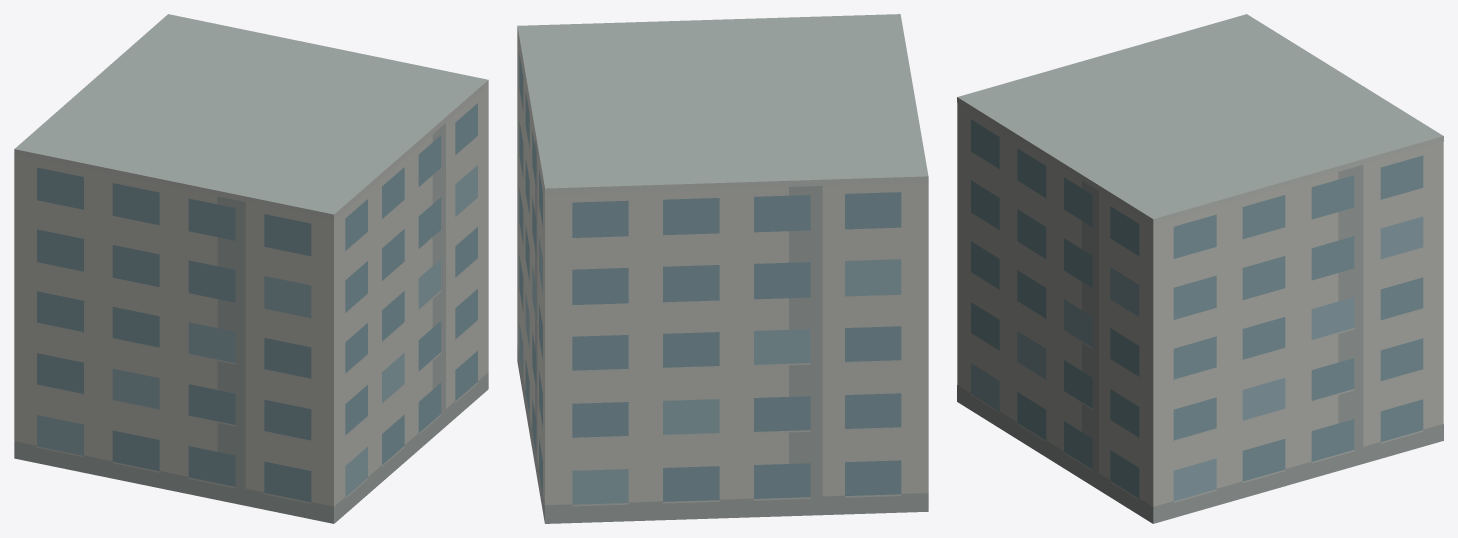
The model's file is survey-upis-32853489.glb.
3 renders of one model, left to right at view 1: azimuth 30°, elevation 25°; view 2: azimuth 150°, elevation 25°; view 3: azimuth 270°, elevation 25°, orthographic. The views are drawn at different scales.
Parts seen in each view (by area): view 1: survey-upis-32853489.tmp; view 2: survey-upis-32853489.tmp; view 3: survey-upis-32853489.tmp.
Part boxes in pixels (x1,y1,x2,y2): survey-upis-32853489.tmp: (14, 14, 488, 523); survey-upis-32853489.tmp: (517, 14, 928, 523); survey-upis-32853489.tmp: (957, 14, 1443, 523).
Size of the model in its own units: 19.07 by 13.2 by 19.11.
